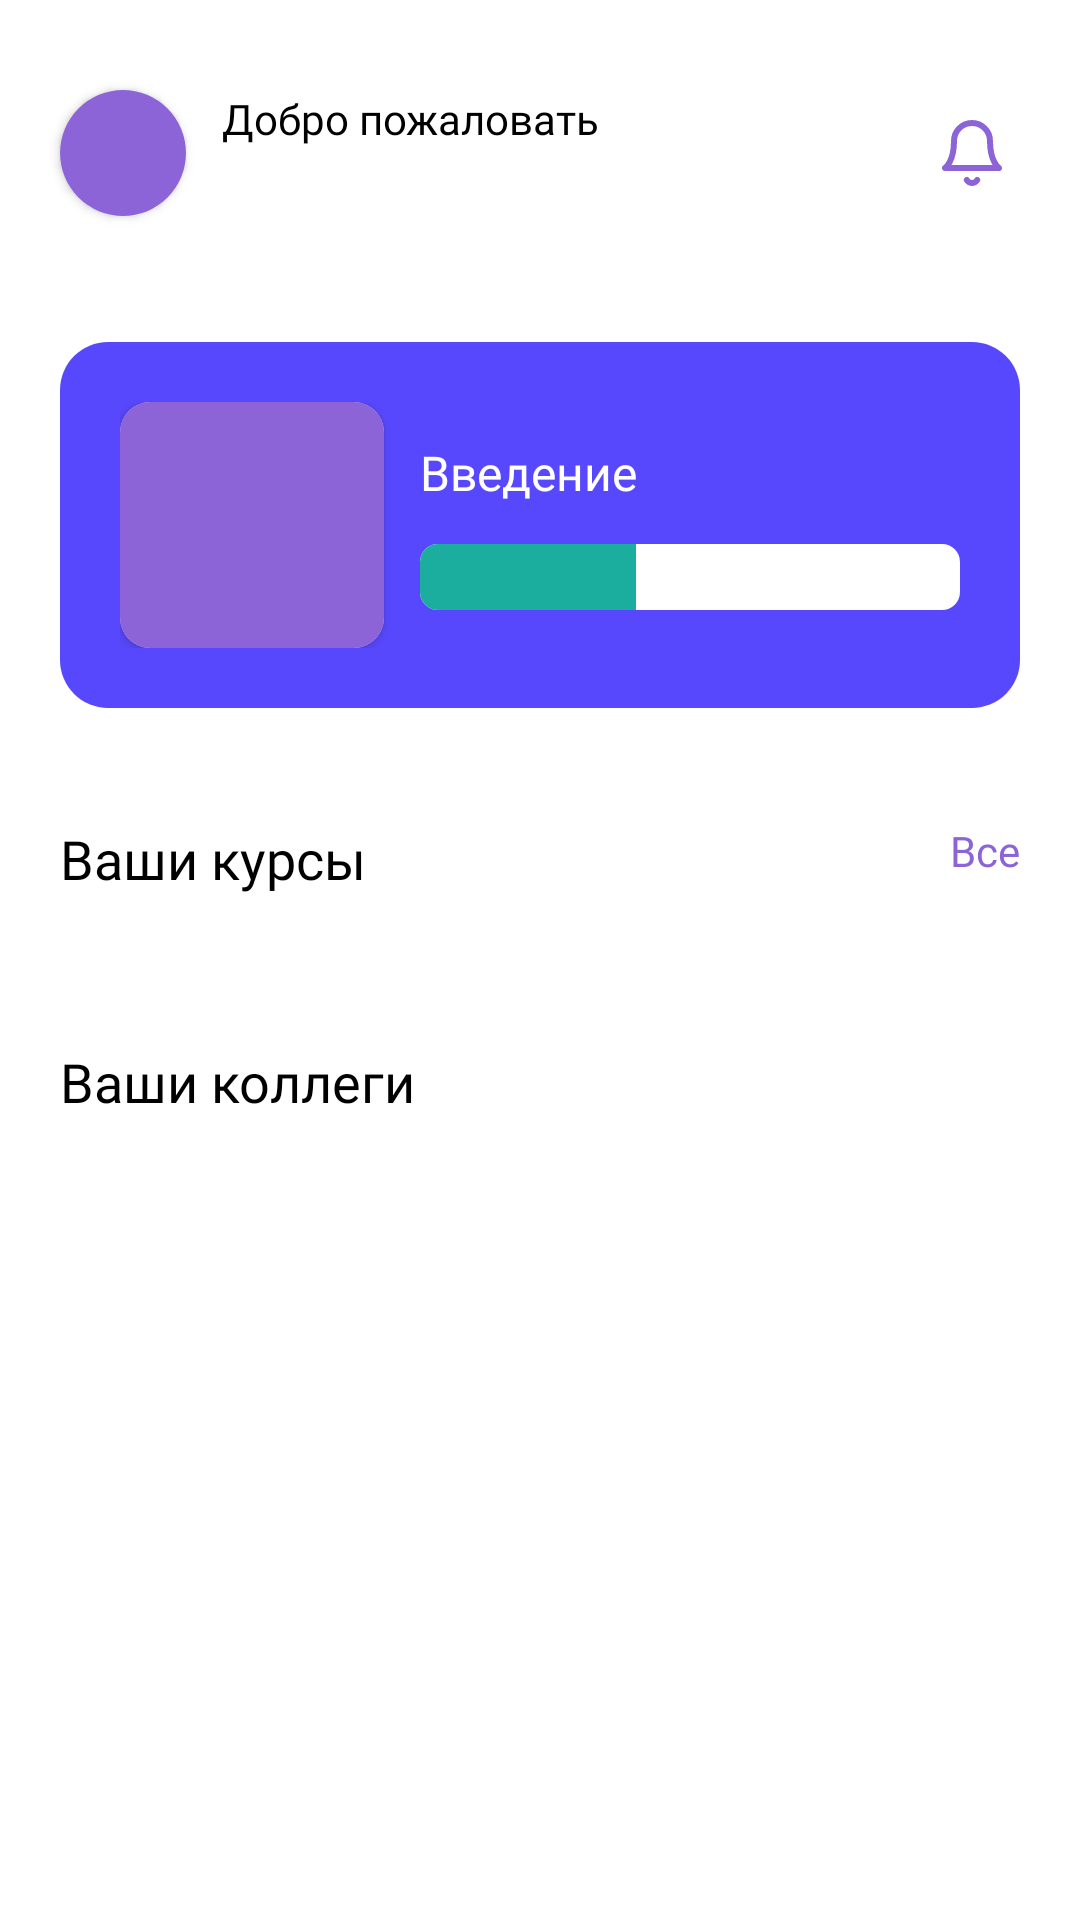

Locate icon controls on the screen. Image size 1080px×1920px, boxes as (x1, y1, x2, y2).
bell: (942, 120, 1002, 186)
